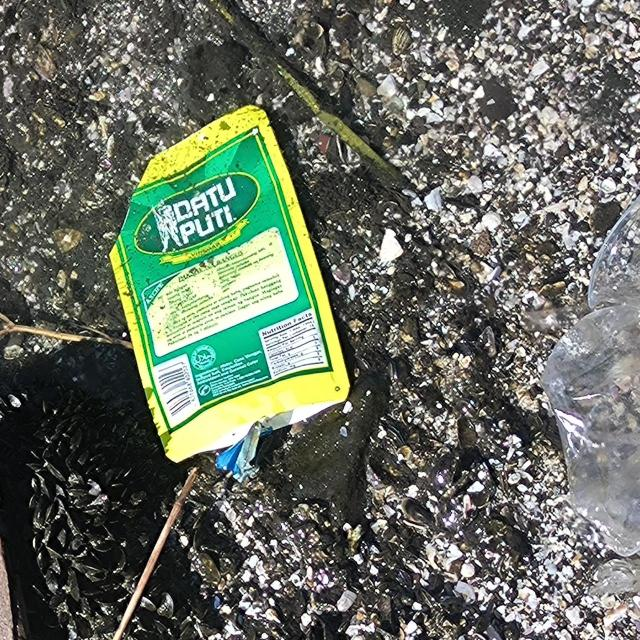plastic_waste: (111, 106, 353, 465)
